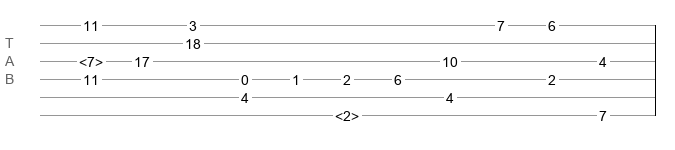0: (241, 72, 249, 82)
1: (292, 72, 300, 82)
10: (442, 54, 458, 64)
11: (83, 72, 99, 82), (83, 18, 99, 28)
17: (134, 54, 150, 64)
18: (185, 36, 201, 46)
2: (343, 72, 351, 82), (548, 72, 556, 82)
3: (189, 18, 197, 28)
4: (241, 90, 249, 100), (446, 90, 454, 100), (599, 54, 607, 64)
6: (394, 72, 402, 82), (548, 18, 556, 28)
7: (497, 18, 505, 28), (599, 108, 607, 118)
harmonic: (79, 54, 103, 64), (335, 108, 359, 118)
